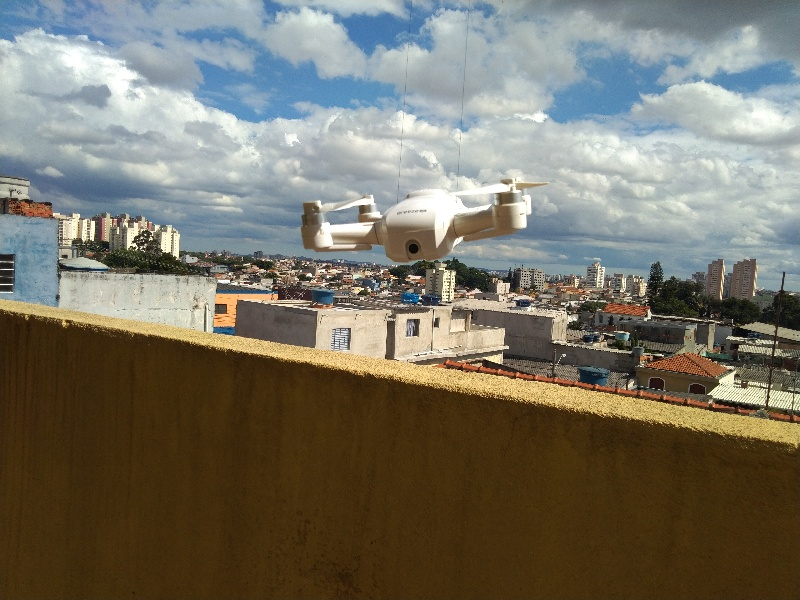drone: (296, 176, 545, 265)
